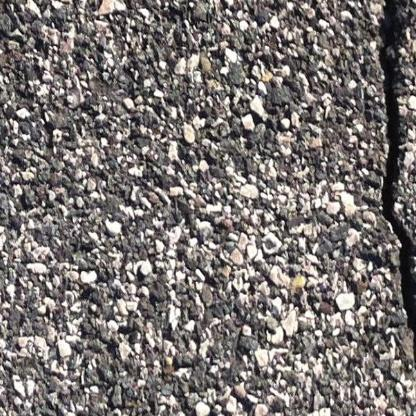Cracks: (377, 0, 416, 373)
